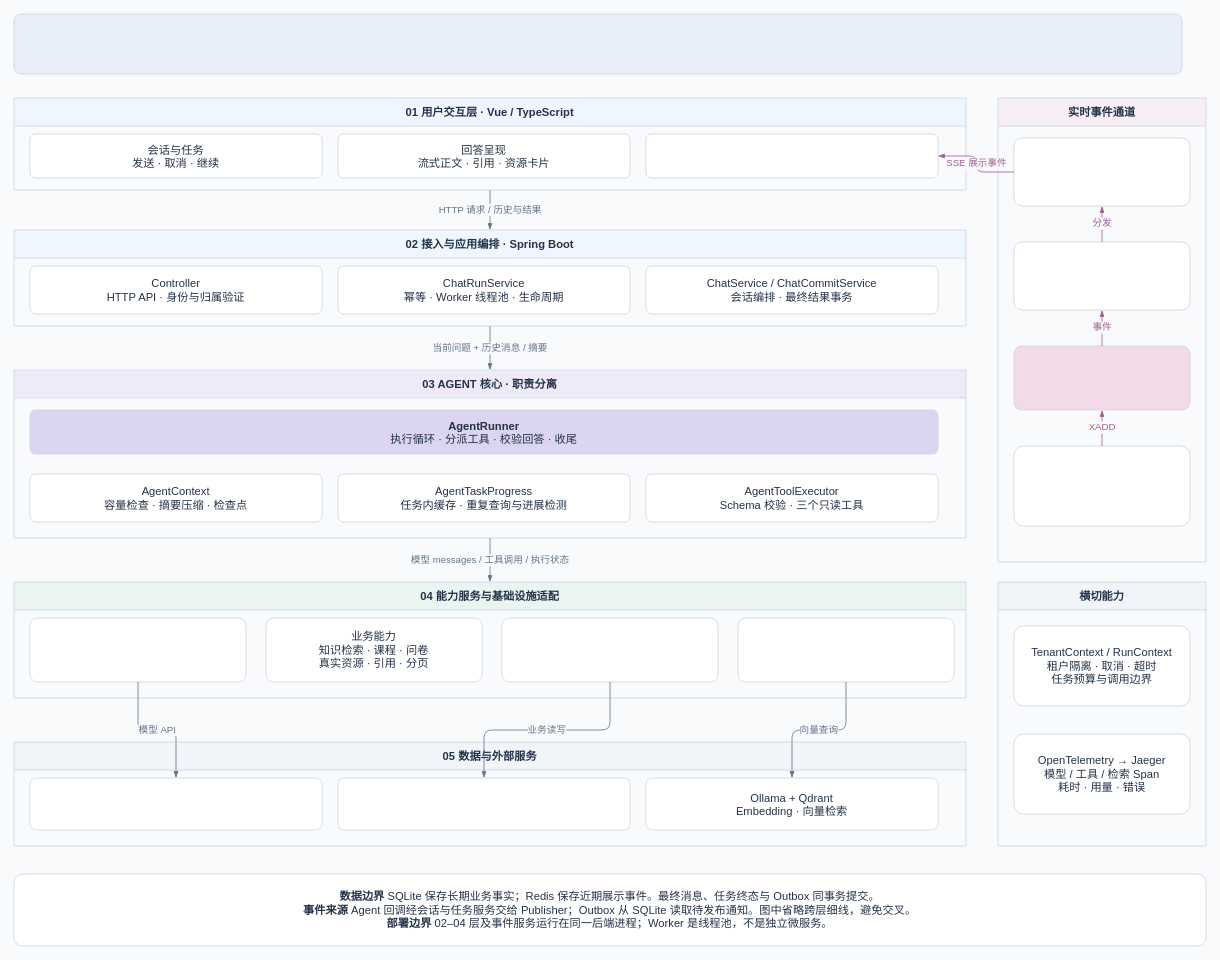
This 1220x960 diagram has some shape labels left out. Here are the shapes that lost their labels. From the top down, the centre of each, then its label:
At (x=597, y=43): "MINDHAVEN / AGENT ARCHITECTURE 模块化单体 · 受控工具循环 · 流式交互与可靠结果保存".
At (x=791, y=155): "执行过程 阶段 · 工具参数 · 中间草稿".
At (x=1101, y=171): "SSE 连接 RunEventStream 按游标恢复 / 有界发送".
At (x=1101, y=275): "RunEventReader 共享分组 XREAD 按 runId 分发".
At (x=1101, y=377): "Redis Streams 每任务一条流 近期事件回放".
At (x=1101, y=485): "RunEventPublisher 正文合并 · 过程事件发布 OutboxPublisher 终态发布与失败重试".
At (x=137, y=649): "模型调用 AiOperations → AiGateway 用量追踪 → 模型协议适配".
At (x=609, y=649): "数据访问 Manager → Mapper MyBatis-Plus / 事务".
At (x=845, y=649): "向量适配 KnowledgeVectorIndex 查询向量与索引".
At (x=175, y=803): "DeepSeek 兼容网关 正文增量 / tool_calls".
At (x=483, y=803): "SQLite 业务数据 · 执行状态 · 最终消息".
